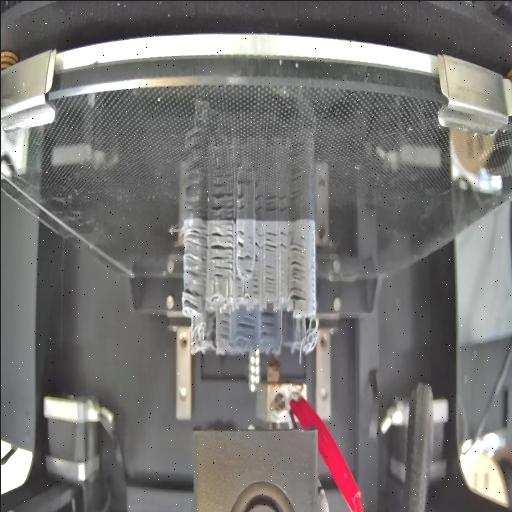cracks: (182, 227, 208, 277), (288, 243, 304, 303), (210, 224, 234, 260), (264, 228, 288, 254), (258, 310, 276, 340), (182, 288, 202, 312), (237, 315, 255, 338), (263, 263, 275, 295), (216, 312, 230, 338), (213, 265, 233, 279), (254, 226, 261, 262), (234, 276, 243, 298), (236, 226, 244, 250), (251, 276, 260, 296), (237, 251, 253, 261), (242, 266, 252, 274)
